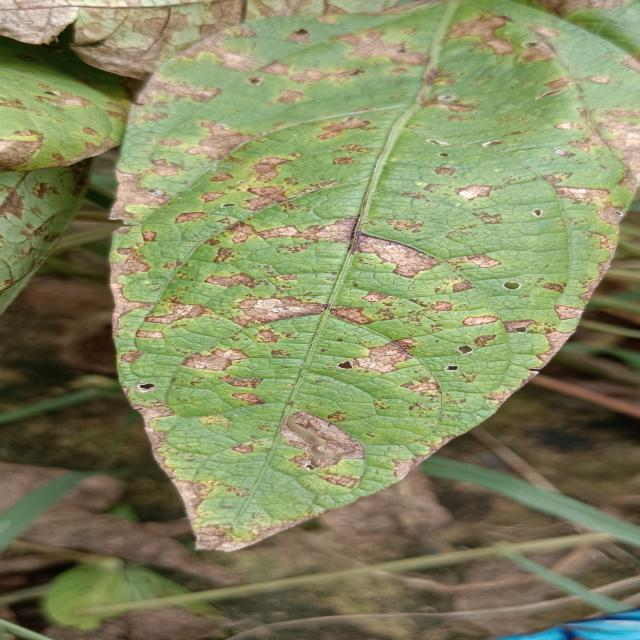Black gram_leaf spot: (102, 0, 640, 560)
